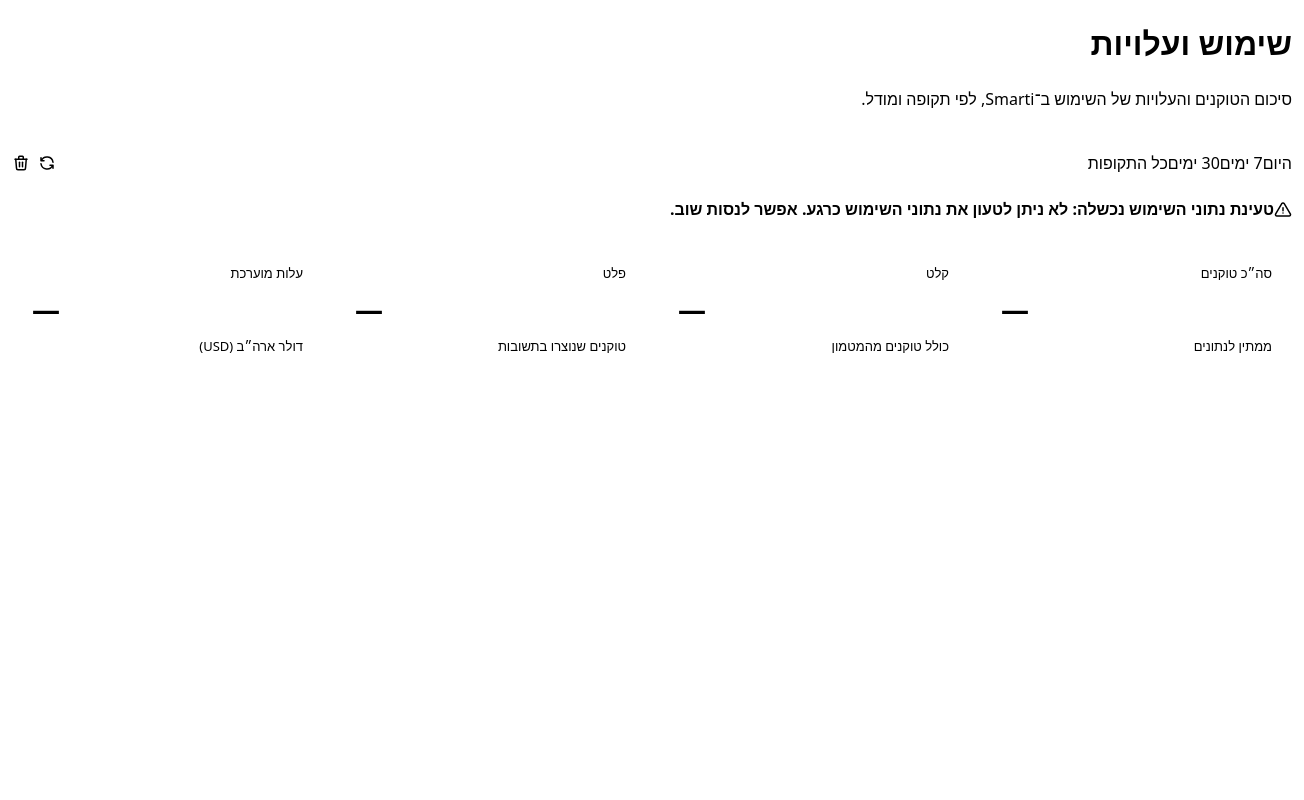
it: usage loading through the desktop API › shows a recoverable error instead of an empty zero result
Check: the message shows "לא ניתן לטעון", box left=670, top=198, right=1274, bottom=220
Click the button named "רענון": (47, 163) left=38, top=154, right=56, bottom=172
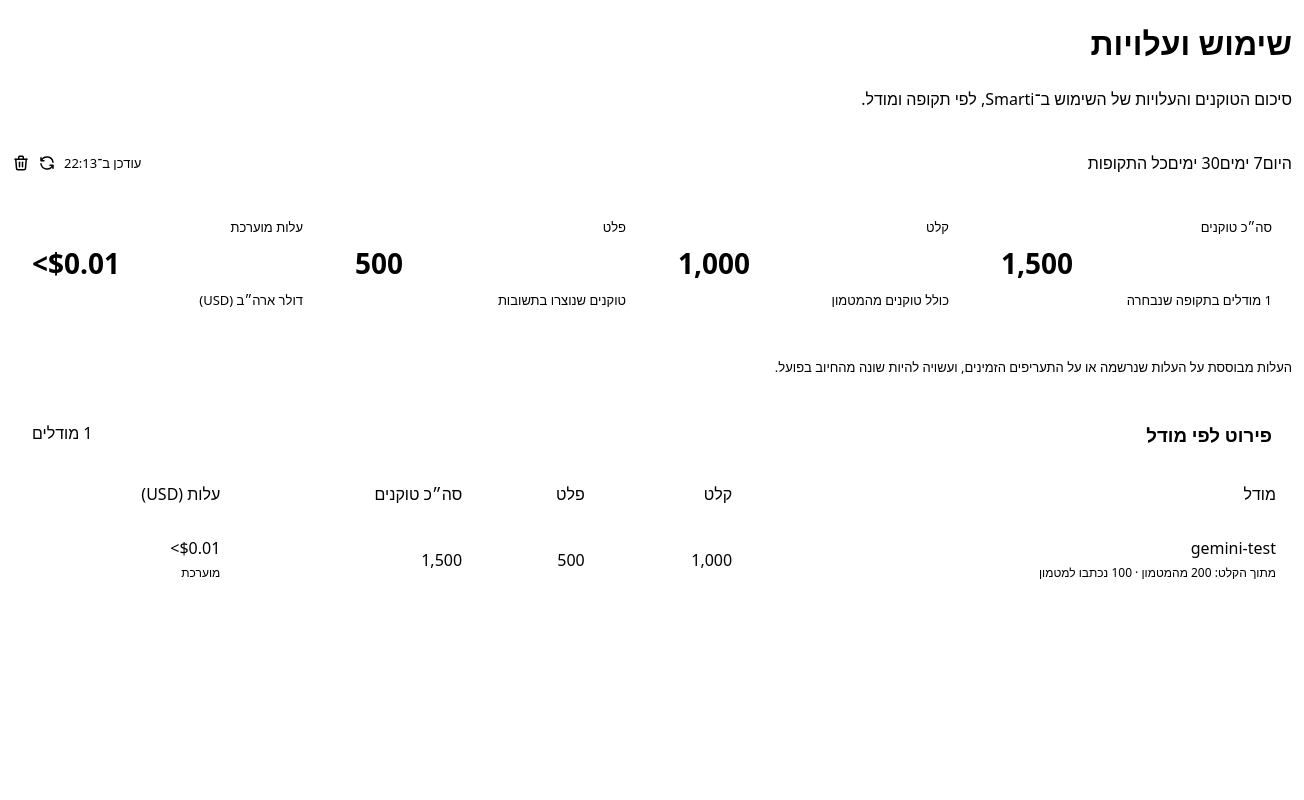
Check: the text "gemini-test" is shown, box left=1191, top=537, right=1276, bottom=559
